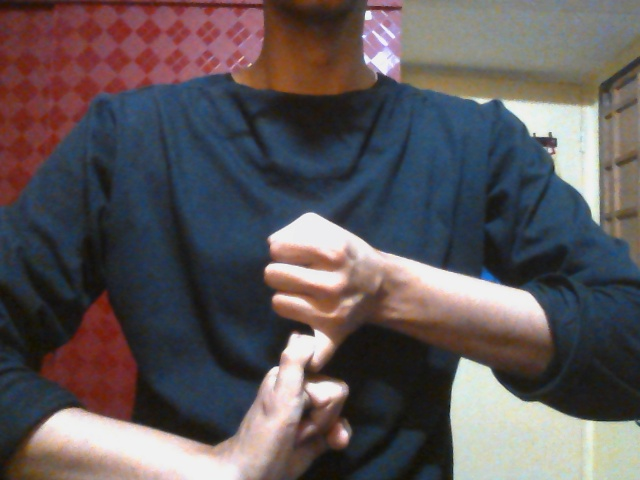S: (236, 211, 378, 480)
